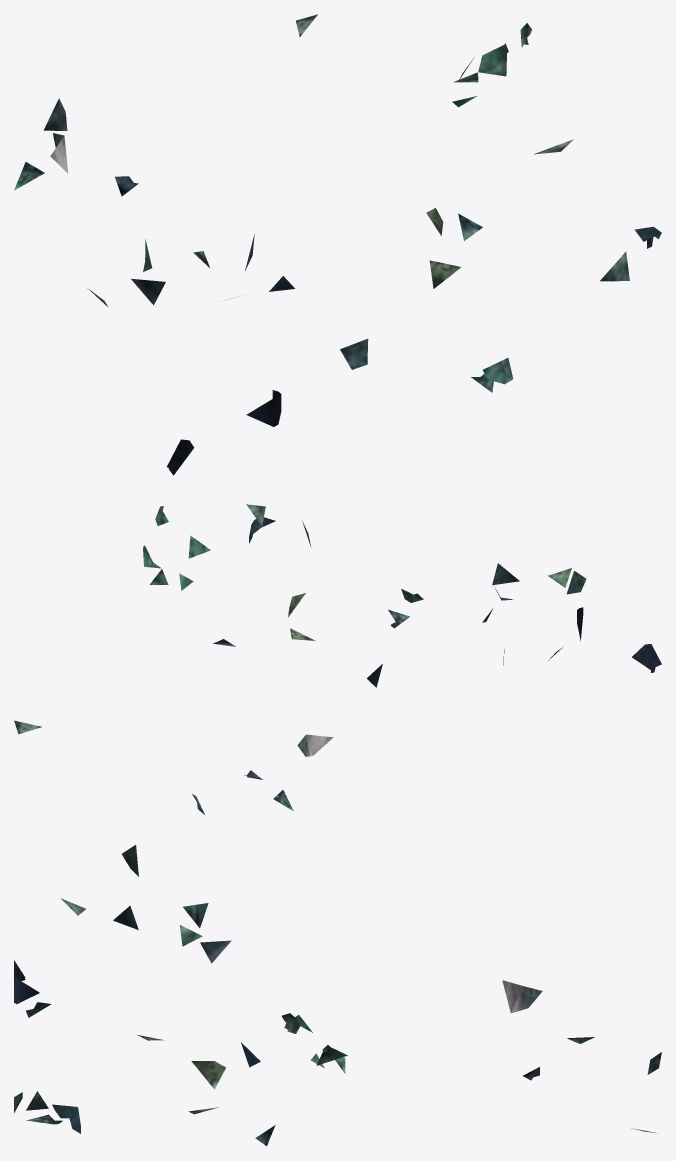
3 views of the same model, one above another, from view 1: azimuth 30°, elevation 25°; view 2: azimuth 150°, elevation 25°; view 3: azimuth 270°, elevation 25° (orthographic). The views are drawn at different scales.
Visible parts, largest first — view 1: 30436272704370415427_1; view 2: 30436272704370415427_1; view 3: 30436272704370415427_1.
Boxes of the visible parts, bbox=[...] form: 30436272704370415427_1: bbox=[14, 14, 661, 475]; 30436272704370415427_1: bbox=[14, 504, 661, 814]; 30436272704370415427_1: bbox=[14, 845, 661, 1146].
Bounding box in the file's own units: 27.77 × 10.95 × 34.4.
Materials: 1 (1 with a texture image).
